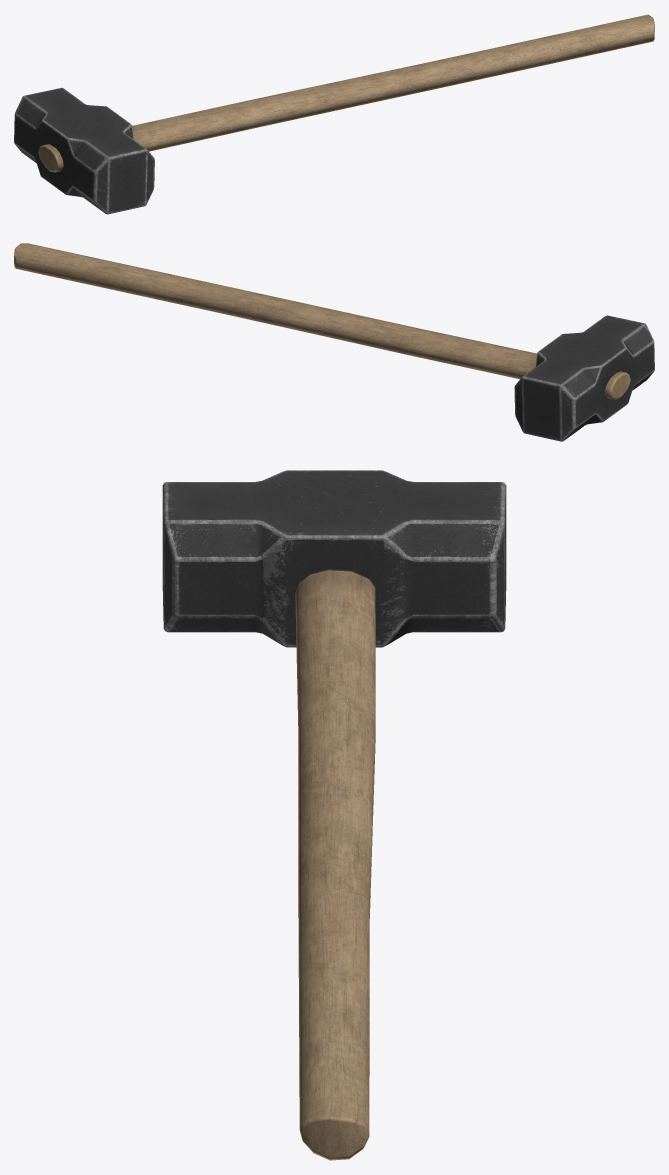
File: sledge_hammer.glb
3 views of the same model, one above another, from view 1: azimuth 30°, elevation 25°; view 2: azimuth 150°, elevation 25°; view 3: azimuth 270°, elevation 25° (orthographic). The views are drawn at different scales.
Parts seen in each view (by area): view 1: SledgeHammer_SledgeHammer_0; view 2: SledgeHammer_SledgeHammer_0; view 3: SledgeHammer_SledgeHammer_0.
Boxes of the visible parts, x1,y1,x2,y2 form: SledgeHammer_SledgeHammer_0: [14, 14, 654, 214]; SledgeHammer_SledgeHammer_0: [14, 243, 654, 441]; SledgeHammer_SledgeHammer_0: [162, 470, 506, 1160].
Bounding box in the file's own units: 0.7929 × 0.0732 × 0.1954.
Materials: 1 (1 with a texture image).
